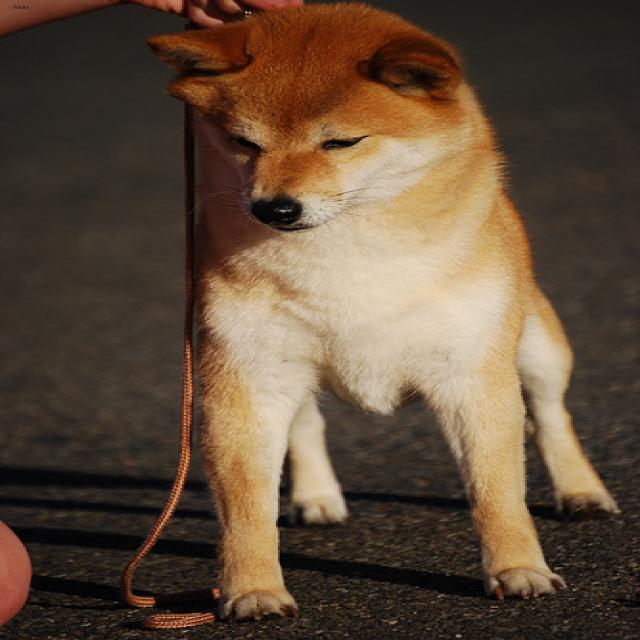dog-shiba_inu: (138, 1, 627, 627)
